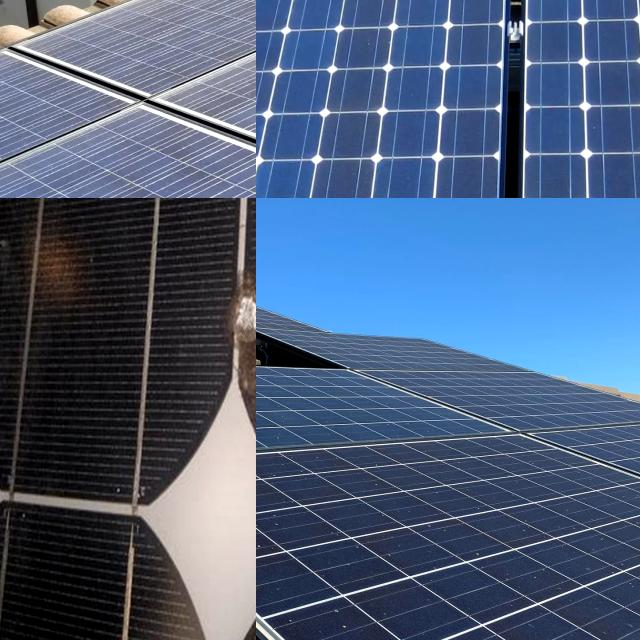crack: (370, 108, 472, 174), (304, 105, 398, 173), (293, 141, 390, 198), (435, 108, 513, 171), (270, 25, 346, 88), (523, 148, 600, 198), (334, 26, 408, 78), (256, 152, 331, 198), (256, 26, 297, 81), (256, 36, 287, 77)
dust: (262, 458, 562, 606), (14, 140, 200, 198), (164, 0, 256, 114), (0, 70, 63, 165), (256, 570, 327, 640)
shadow: (18, 218, 84, 326), (220, 242, 256, 428)
